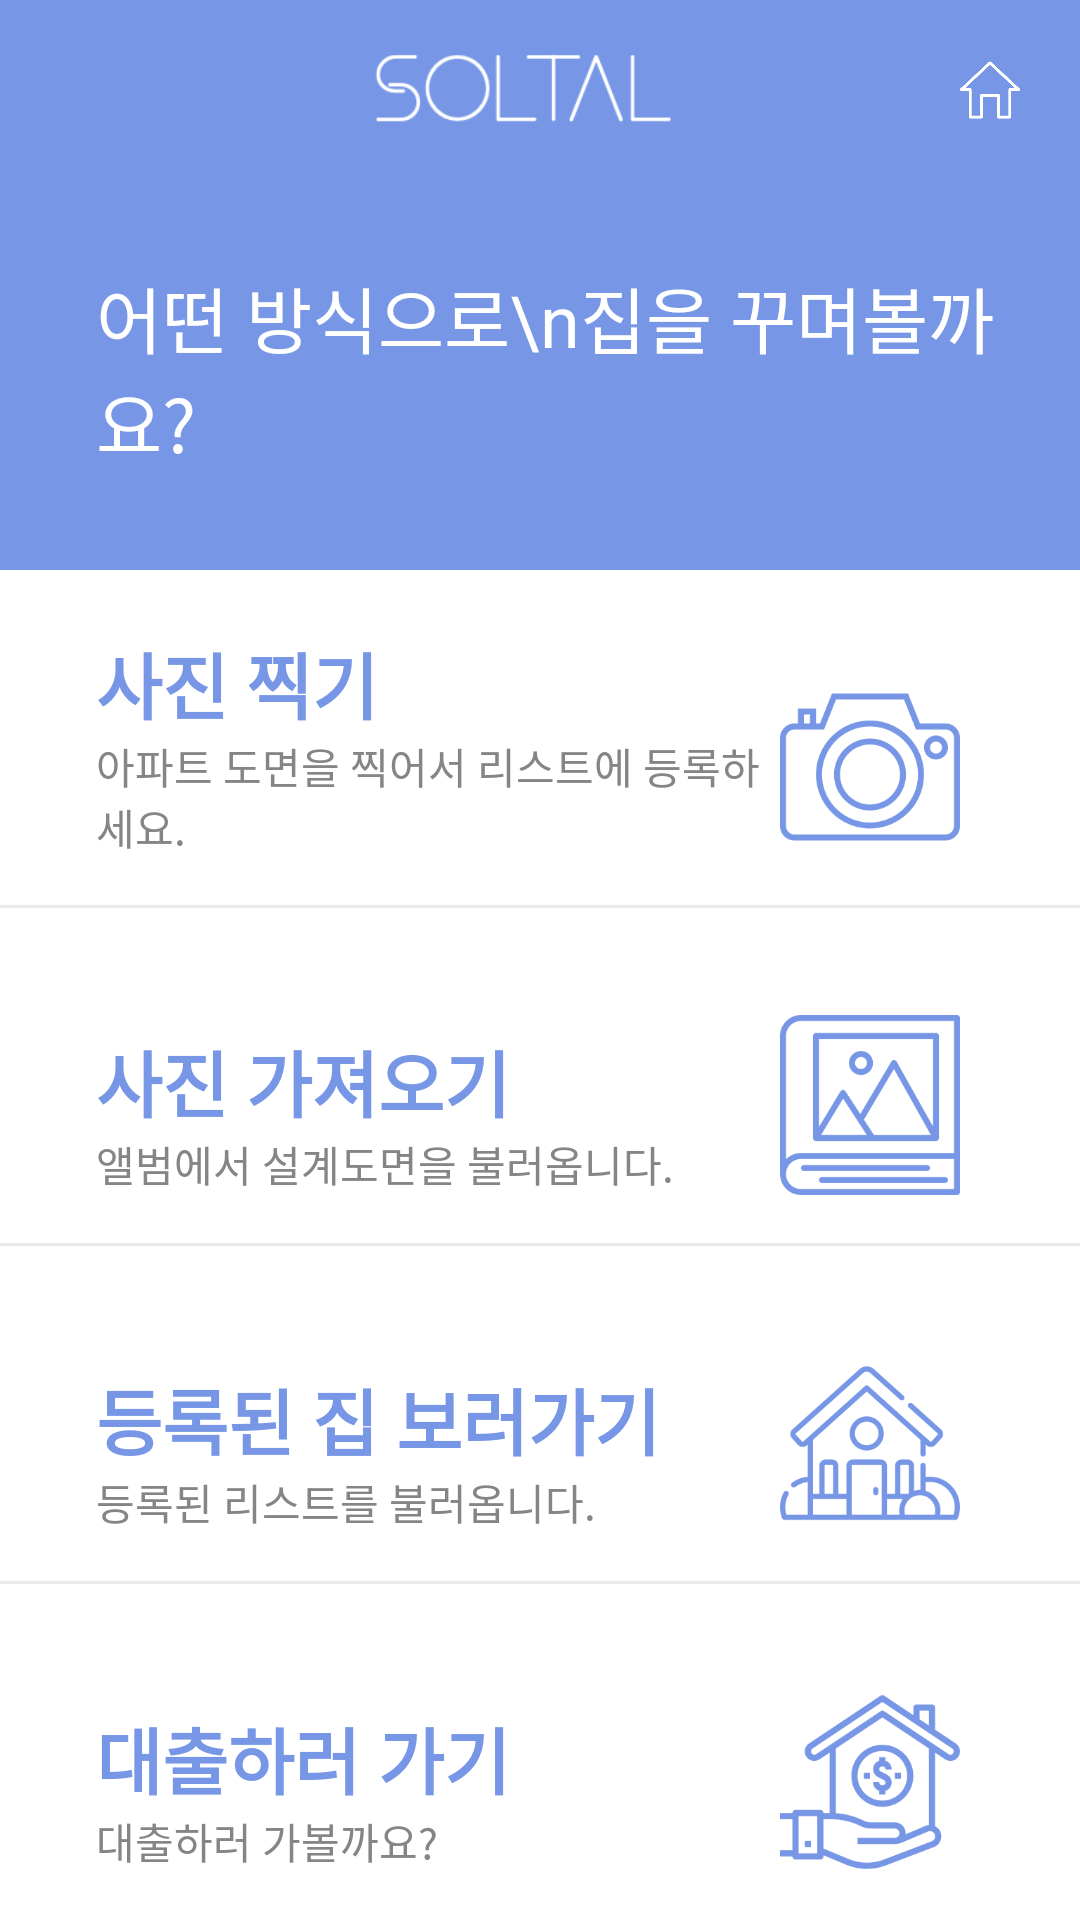

Where icons sit on this 1080px×1920px app screen, as rect(x1, y1, x2, y2):
album last: rect(780, 1015, 960, 1195)
home last: rect(780, 1366, 960, 1520)
loan: rect(780, 1695, 960, 1869)
photo last: rect(780, 693, 960, 841)
top home: rect(960, 61, 1020, 119)
